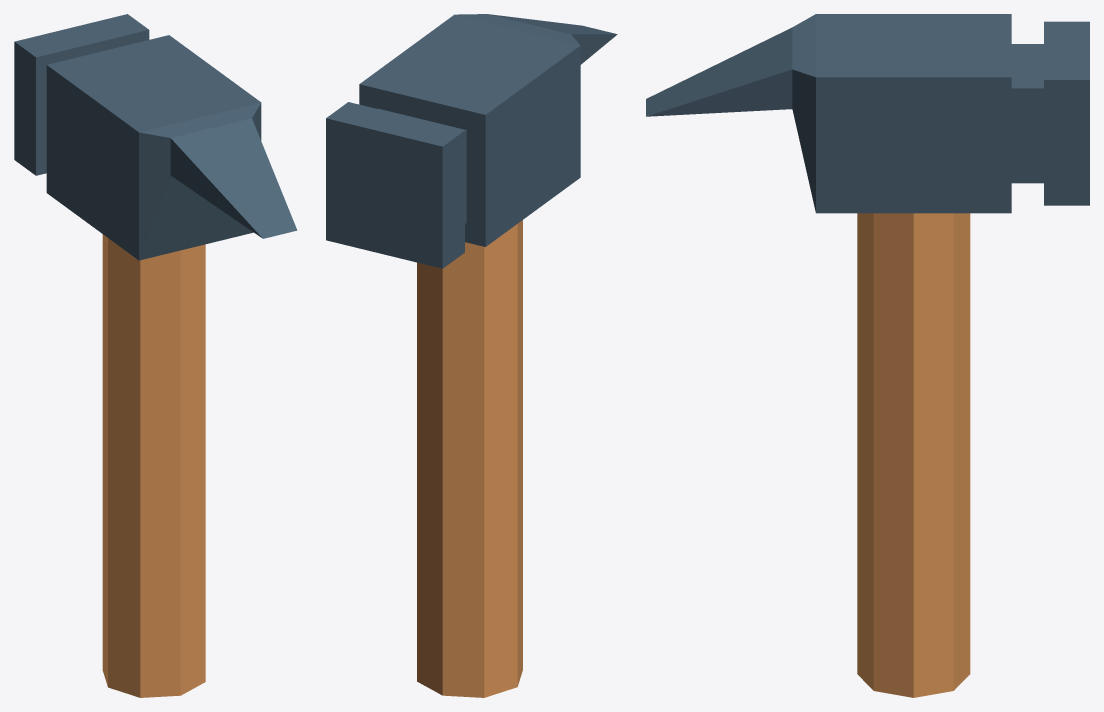
The model's file is Hammer.glb.
3 renders of one model, left to right at view 1: azimuth 30°, elevation 25°; view 2: azimuth 150°, elevation 25°; view 3: azimuth 270°, elevation 25°, orthographic. The views are drawn at different scales.
Parts seen in each view (by area): view 1: Cube.001, Cylinder; view 2: Cube.001, Cylinder; view 3: Cube.001, Cylinder.
Boxes of the visible parts, x1,y1,x2,y2 form: Cube.001: [14, 14, 297, 260]; Cylinder: [102, 234, 205, 697]; Cube.001: [326, 14, 617, 268]; Cylinder: [417, 220, 522, 697]; Cube.001: [646, 14, 1089, 213]; Cylinder: [857, 213, 970, 697].
Size of the model in its own units: 0.1529 by 0.7069 by 0.4526.
Materials: 1 (1 with a texture image).
